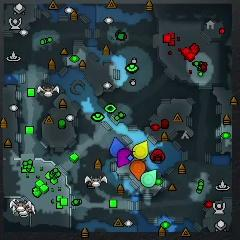p1: (109, 136, 125, 156)
p2: (142, 170, 157, 187)
p3: (116, 148, 133, 167)
p4: (133, 140, 148, 159)
p5: (129, 160, 145, 180)
